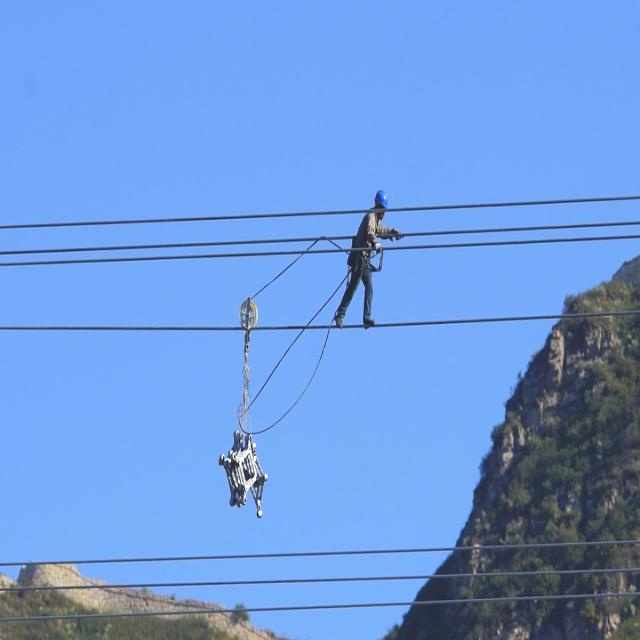Con_Casco: (374, 188, 389, 219)
